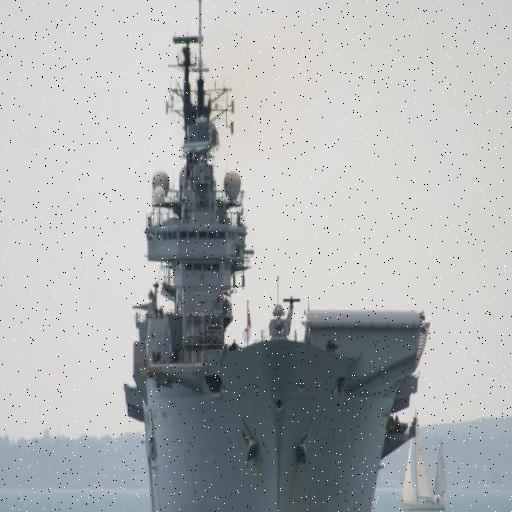Portanaves: (127, 1, 434, 512)
